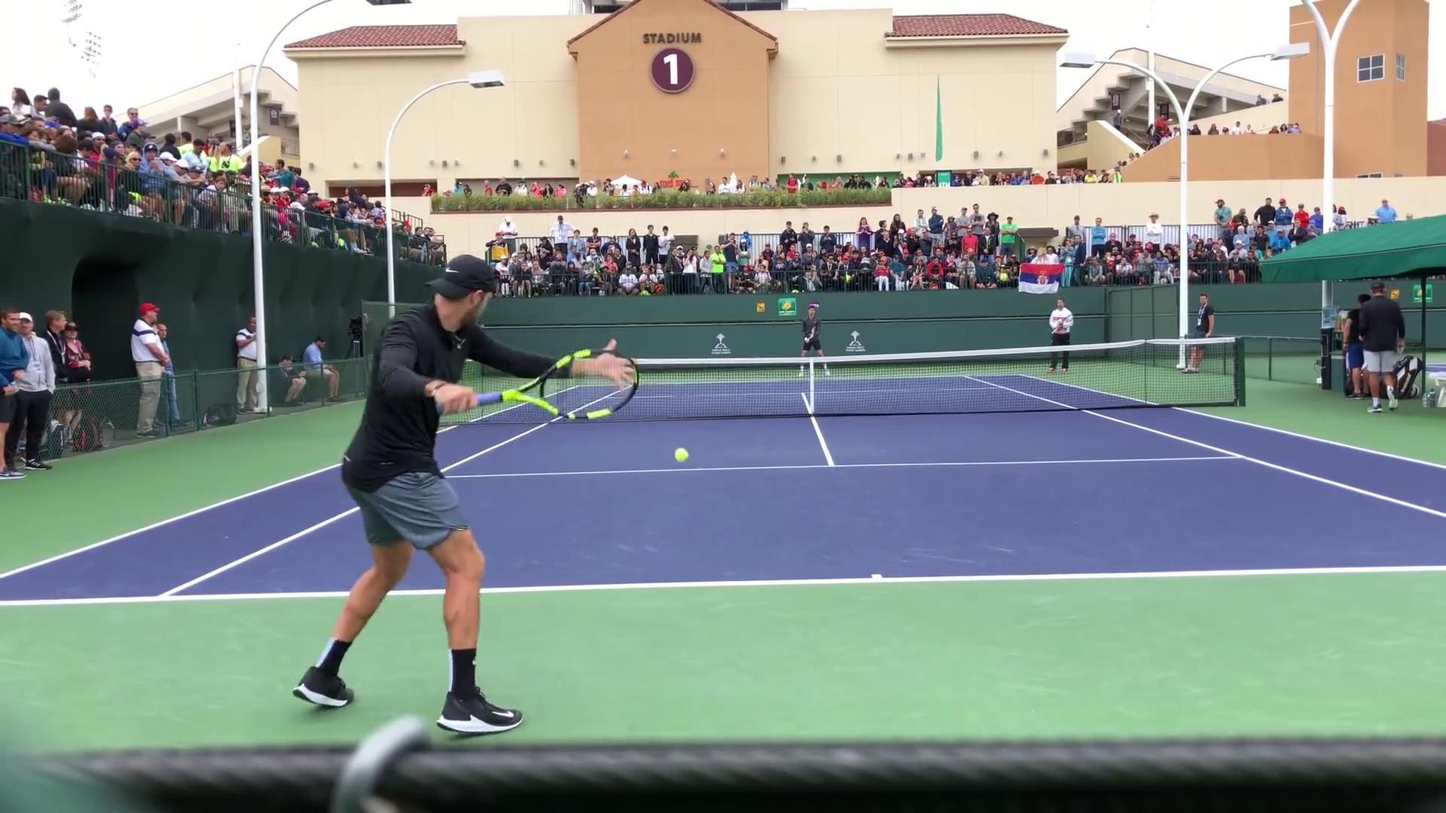ball: (672, 449, 689, 464)
